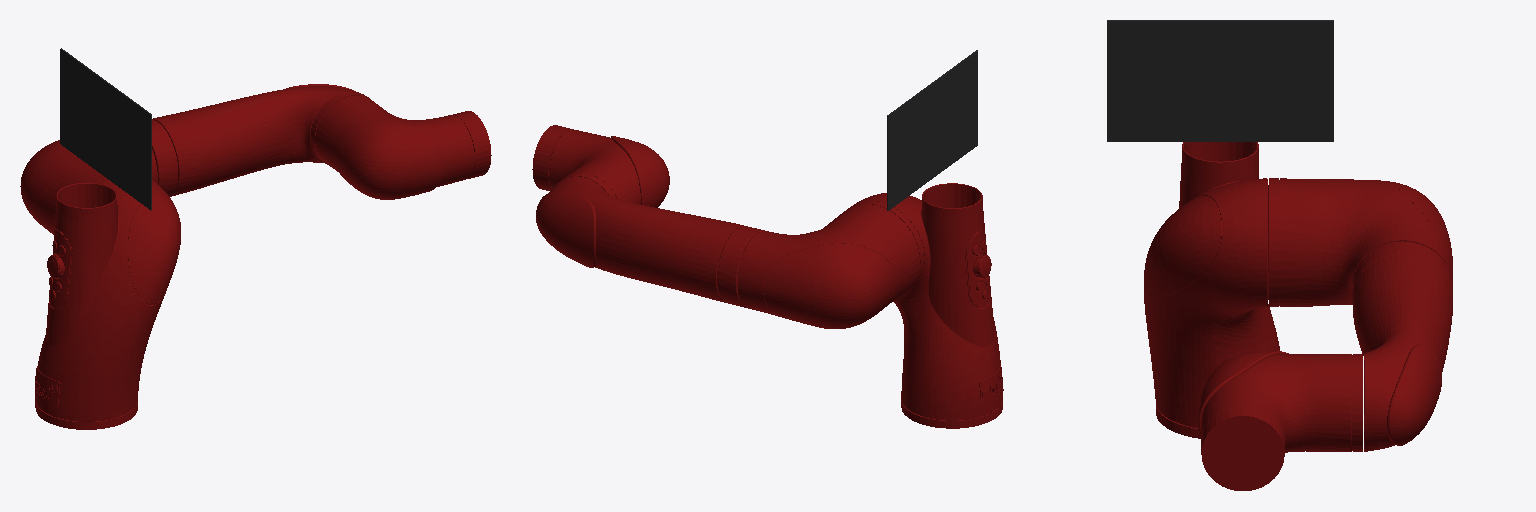
The robot description file, URDF, robot "sawyer":
<?xml version="1.0" ?>
<!-- =================================================================================== -->
<!-- |    This document was autogenerated by xacro from ./urdf.xacro                   | -->
<!-- |    EDITING THIS FILE BY HAND IS NOT RECOMMENDED                                 | -->
<!-- =================================================================================== -->
<robot name="sawyer" xmlns:xacro="http://www.ros.org/wiki/xacro">
  <material name="black">
    <color rgba="0 0 0 1"/>
  </material>
  <material name="darkgray">
    <color rgba=".2 .2 .2 1"/>
  </material>
  <material name="darkred">
    <color rgba=".5 .1 .1 1"/>
  </material>
  <material name="sawyer_red">
    <color rgba=".5 .1 .1 1"/>
  </material>
  <material name="sawyer_gray">
    <color rgba="0.75294 0.75294 0.75294 1"/>
  </material>
  <link name="base"/>
  <link name="torso">
    <visual>
      <origin rpy="0 0 0" xyz="0 0 0"/>
      <geometry>
        <box size="0 0 0"/>
      </geometry>
      <material name="darkgray">
        <color rgba=".2 .2 .2 1"/>
      </material>
    </visual>
    <inertial>
      <origin rpy="0 0 0" xyz="0.000000 0.000000 0.000000"/>
      <mass value="0.0001"/>
      <inertia ixx="1e-08" ixy="0" ixz="0" iyy="1e-08" iyz="0" izz="1e-08"/>
    </inertial>
  </link>
  <link name="pedestal">
    <visual>
      <origin rpy="1.57079632679 0 -1.57079632679" xyz="0.26 0.345 -0.91488"/>
      <geometry>
        <mesh filename="package://sawyer_description/meshes/sawyer_pv/pedestal.STL"/>
      </geometry>
      <material name="darkgray"/>
    </visual>
    <collision>
      <origin rpy="0 0 0" xyz="0 0 -0.30"/>
      <geometry>
        <cylinder length="0.62" radius="0.18"/>
      </geometry>
    </collision>
    <inertial>
      <origin rpy="0 0 0" xyz="0 0 0"/>
      <mass value="60.86397744"/>
      <inertia ixx="5.0635929" ixy="0.00103417" ixz="0.80199628" iyy="6.08689388" iyz="0.00105311" izz="4.96191932"/>
    </inertial>
  </link>
  <link name="controller_box">
    <collision>
      <origin rpy="0 0 0" xyz="-0.325 0 -0.38"/>
      <geometry>
        <box size="0.22 0.4 0.53"/>
      </geometry>
    </collision>
  </link>
  <joint name="controller_box_fixed" type="fixed">
    <origin rpy="0 0 0" xyz="0.0 0.0 0.0"/>
    <parent link="base"/>
    <child link="controller_box"/>
  </joint>
  <link name="pedestal_feet">
    <collision>
      <origin rpy="0 0 0" xyz="-0.1225 0 -0.758"/>
      <geometry>
        <box size="0.77 0.7 0.31"/>
      </geometry>
    </collision>
  </link>
  <joint name="pedestal_feet_fixed" type="fixed">
    <origin rpy="0 0 0" xyz="0.0 0.0 0.0"/>
    <parent link="base"/>
    <child link="pedestal_feet"/>
  </joint>
  <joint name="torso_t0" type="fixed">
    <origin rpy="0 0 0" xyz="0 0 0"/>
    <parent link="base"/>
    <child link="torso"/>
  </joint>
  <joint name="pedestal_fixed" type="fixed">
    <origin rpy="0 0 0" xyz="0.0 0.0 0.0"/>
    <parent link="base"/>
    <child link="pedestal"/>
  </joint>
  <joint name="right_arm_mount" type="fixed">
    <origin rpy="0 0 0" xyz="0.0 0.0 0.0"/>
    <parent link="base"/>
    <child link="right_arm_base_link"/>
  </joint>
  <link name="right_arm_base_link">
    <inertial>
      <origin rpy="0 0 0" xyz="-0.0006241 -2.8025E-05 0.065404"/>
      <mass value="2.0687"/>
      <inertia ixx="0.0067599" ixy="-4.2024E-05" ixz="-6.1904E-07" iyy="0.0067877" iyz="1.5888E-05" izz="0.0074031"/>
    </inertial>
    <visual>
      <origin rpy="0 0 0" xyz="0 0 0"/>
      <geometry>
        <mesh filename="package://sawyer_description/meshes/sawyer_pv/base.DAE"/>
      </geometry>
      <material name="sawyer_red"/>
    </visual>
    <collision>
      <origin rpy="0 0 0" xyz="0 0 0.12"/>
      <geometry>
        <cylinder length="0.24" radius="0.08"/>
      </geometry>
    </collision>
  </link>
  <link name="right_l0">
    <inertial>
      <origin rpy="0 0 0" xyz="0.024366 0.010969 0.14363"/>
      <mass value="5.3213"/>
      <inertia ixx="0.053314" ixy="0.0047093" ixz="0.011734" iyy="0.057902" iyz="0.0080179" izz="0.023659"/>
    </inertial>
    <visual>
      <origin rpy="0 0 0" xyz="0 0 0"/>
      <geometry>
        <mesh filename="package://sawyer_description/meshes/sawyer_mp3/l0.DAE"/>
      </geometry>
      <material name="sawyer_red"/>
    </visual>
    <collision>
      <origin rpy="0 0 0" xyz="0.081 0 0.237"/>
      <geometry>
        <sphere radius="0.07"/>
      </geometry>
    </collision>
  </link>
  <joint name="right_j0" type="revolute">
    <origin rpy="0 0 0" xyz="0 0 0.08"/>
    <parent link="right_arm_base_link"/>
    <child link="right_l0"/>
    <axis xyz="0 0 1"/>
    <limit effort="80.0" lower="-3.0503" upper="3.0503" velocity="1.74"/>
  </joint>
  <link name="head">
    <inertial>
      <origin rpy="0 0 0" xyz="0.0053207 -2.6549E-05 0.1021"/>
      <mass value="1.5795"/>
      <inertia ixx="0.011833" ixy="-4.4669E-06" ixz="4.9425E-05" iyy="0.0082709" iyz="4.2124E-07" izz="0.0049661"/>
    </inertial>
    <visual>
      <origin rpy="0 0 0" xyz="0 0 0"/>
      <geometry>
        <mesh filename="package://sawyer_description/meshes/sawyer_pv/head.STL"/>
      </geometry>
      <material name="sawyer_red"/>
    </visual>
    <collision>
      <origin rpy="0 0 0" xyz="0 0 0.08"/>
      <geometry>
        <sphere radius="0.18"/>
      </geometry>
    </collision>
  </link>
  <joint name="head_pan" type="revolute">
    <origin rpy="0 0 0" xyz="0 0 0.2965"/>
    <parent link="right_l0"/>
    <child link="head"/>
    <axis xyz="0 0 1"/>
    <limit effort="8" lower="-5.1477" upper="0.9559" velocity="1.8"/>
  </joint>
  <link name="right_torso_itb">
    <inertial>
      <origin rpy="0 0 0" xyz="0.000000 0.000000 0.000000"/>
      <mass value="0.0001"/>
      <inertia ixx="1e-08" ixy="0" ixz="0" iyy="1e-08" iyz="0" izz="1e-08"/>
    </inertial>
  </link>
  <joint name="right_torso_itb" type="fixed">
    <origin rpy="0 -1.57079632679 0" xyz="-.055 0 .22"/>
    <parent link="right_l0"/>
    <child link="right_torso_itb"/>
    <axis xyz="0 0 1"/>
  </joint>
  <link name="right_l1">
    <inertial>
      <origin rpy="0 0 0" xyz="-0.0030849 -0.026811 0.092521"/>
      <mass value="4.505"/>
      <inertia ixx="0.022398" ixy="-0.00023986" ixz="-0.00029362" iyy="0.014613" iyz="-0.0060875" izz="0.017295"/>
    </inertial>
    <visual>
      <origin rpy="0 0 0" xyz="0 0 0"/>
      <geometry>
        <mesh filename="package://sawyer_description/meshes/sawyer_mp3/l1.DAE"/>
      </geometry>
      <material name="sawyer_red"/>
    </visual>
    <collision>
      <origin rpy="0 0 0" xyz="0 0 0.1225"/>
      <geometry>
        <sphere radius="0.07"/>
      </geometry>
    </collision>
  </link>
  <joint name="right_j1" type="revolute">
    <origin rpy="-1.57079632679 1.57079632679 0" xyz="0.081 0.05 0.237"/>
    <parent link="right_l0"/>
    <child link="right_l1"/>
    <axis xyz="0 0 1"/>
    <limit effort="80.0" lower="-3.8183" upper="2.2824" velocity="1.328"/>
  </joint>
  <link name="right_l2">
    <inertial>
      <origin rpy="0 0 0" xyz="-0.00016232 -0.015346 0.13445"/>
      <mass value="1.7251"/>
      <inertia ixx="0.025176" ixy="4.3031E-06" ixz="1.4564E-05" iyy="0.024982" iyz="-0.0033928" izz="0.0033798"/>
    </inertial>
    <visual>
      <origin rpy="0 0 0" xyz="0 0 0"/>
      <geometry>
        <mesh filename="package://sawyer_description/meshes/sawyer_pv/l2.DAE"/>
      </geometry>
      <material name="sawyer_red"/>
    </visual>
    <collision>
      <origin rpy="0 0 0" xyz="0 0 0.14"/>
      <geometry>
        <cylinder length="0.35" radius="0.06"/>
      </geometry>
    </collision>
  </link>
  <joint name="right_j2" type="revolute">
    <origin rpy="1.57079632679 0 0" xyz="0 -0.14 0.1425"/>
    <parent link="right_l1"/>
    <child link="right_l2"/>
    <axis xyz="0 0 1"/>
    <limit effort="40.0" lower="-3.0514" upper="3.0514" velocity="1.957"/>
  </joint>
  <link name="right_l3">
    <inertial>
      <origin rpy="0 0 0" xyz="-0.0046678 -0.028394 -0.083127"/>
      <mass value="2.4743"/>
      <inertia ixx="0.0099549" ixy="-1.7675E-05" ixz="0.00027521" iyy="0.0064248" iyz="0.0030853" izz="0.0067746"/>
    </inertial>
    <visual>
      <origin rpy="0 0 0" xyz="0 0 0"/>
      <geometry>
        <mesh filename="package://sawyer_description/meshes/sawyer_pv/l3.DAE"/>
      </geometry>
      <material name="sawyer_red"/>
    </visual>
    <collision>
      <origin rpy="0 0 0" xyz="0 -0.01 -0.12"/>
      <geometry>
        <sphere radius="0.06"/>
      </geometry>
    </collision>
  </link>
  <joint name="right_j3" type="revolute">
    <origin rpy="-1.57079632679 0 0" xyz="0 -0.042 0.26"/>
    <parent link="right_l2"/>
    <child link="right_l3"/>
    <axis xyz="0 0 1"/>
    <limit effort="40.0" lower="-3.0514" upper="3.0514" velocity="1.957"/>
  </joint>
  <link name="right_l4">
    <inertial>
      <origin rpy="0 0 0" xyz="-0.0027794 0.0076558 0.13273"/>
      <mass value="1.0433"/>
      <inertia ixx="0.012913" ixy="2.573E-05" ixz="0.00017705" iyy="0.012939" iyz="0.0011152" izz="0.0012405"/>
    </inertial>
    <visual>
      <origin rpy="0 0 0" xyz="0 0 0"/>
      <geometry>
        <mesh filename="package://sawyer_description/meshes/sawyer_pv/l4.DAE"/>
      </geometry>
      <material name="sawyer_red"/>
    </visual>
    <collision>
      <origin rpy="0 0 0" xyz="0 0 0.14"/>
      <geometry>
        <cylinder length="0.36" radius="0.045"/>
      </geometry>
    </collision>
  </link>
  <joint name="right_j4" type="revolute">
    <origin rpy="1.57079632679 0 0" xyz="0 -0.125 -0.1265"/>
    <parent link="right_l3"/>
    <child link="right_l4"/>
    <axis xyz="0 0 1"/>
    <limit effort="9.0" lower="-2.9842" upper="2.9842" velocity="3.485"/>
  </joint>
  <link name="right_arm_itb">
    <inertial>
      <origin rpy="0 0 0" xyz="0.000000 0.000000 0.000000"/>
      <mass value="0.0001"/>
      <inertia ixx="1e-08" ixy="0" ixz="0" iyy="1e-08" iyz="0" izz="1e-08"/>
    </inertial>
  </link>
  <joint name="right_arm_itb" type="fixed">
    <origin rpy="0 -1.57079632679 0" xyz="-.055 0 .075"/>
    <parent link="right_l4"/>
    <child link="right_arm_itb"/>
    <axis xyz="0 0 1"/>
  </joint>
  <link name="right_l5">
    <inertial>
      <origin rpy="0 0 0" xyz="0.0062067 -0.024291 0.075564"/>
      <mass value="1.5343"/>
      <inertia ixx="0.0046072" ixy="0.00012002" ixz="5.3065E-05" iyy="0.0028725" iyz="-0.0011886" izz="0.003101"/>
    </inertial>
    <visual>
      <origin rpy="0 0 0" xyz="0 0 0"/>
      <geometry>
        <mesh filename="package://sawyer_description/meshes/sawyer_pv/l5.STL"/>
      </geometry>
      <material name="sawyer_red"/>
    </visual>
    <collision>
      <origin rpy="0 0 0" xyz="0.01 0 0.09"/>
      <geometry>
        <sphere radius="0.06"/>
      </geometry>
    </collision>
  </link>
  <joint name="right_j5" type="revolute">
    <origin rpy="-1.57079632679 0 0" xyz="0 0.031 0.275"/>
    <parent link="right_l4"/>
    <child link="right_l5"/>
    <axis xyz="0 0 1"/>
    <limit effort="9.0" lower="-2.9842" upper="2.9842" velocity="3.485"/>
  </joint>
  <link name="right_hand_camera"/>
  <joint name="right_hand_camera" type="fixed">
    <origin rpy="0 1.57079632679 0" xyz="0.039552 -0.033 0.0695"/>
    <parent link="right_l5"/>
    <child link="right_hand_camera"/>
    <axis xyz="0 0 0"/>
  </joint>
  <link name="right_wrist"/>
  <joint name="right_wrist" type="fixed">
    <origin rpy="1.57079632679 0 0" xyz="0 0 0.10541"/>
    <parent link="right_l5"/>
    <child link="right_wrist"/>
    <axis xyz="0 0 0"/>
  </joint>
  <link name="right_l6">
    <inertial>
      <origin rpy="0 0 0" xyz="-8.0726E-06 0.0085838 -0.0049566"/>
      <mass value="0.3292"/>
      <inertia ixx="0.00031105" ixy="1.4771E-06" ixz="-3.7074E-07" iyy="0.00021549" iyz="-8.4533E-06" izz="0.00035976"/>
    </inertial>
    <visual>
      <origin rpy="0 0 0" xyz="0 0 0"/>
      <geometry>
        <mesh filename="package://sawyer_description/meshes/sawyer_mp1/l6.STL"/>
      </geometry>
      <material name="sawyer_red"/>
    </visual>
    <collision>
      <origin rpy="0 0 0" xyz="0 0 -0.005"/>
      <geometry>
        <cylinder length="0.05" radius="0.065"/>
      </geometry>
    </collision>
  </link>
  <joint name="right_j6" type="revolute">
    <origin rpy="-1.57079632679 -0.17453 3.1416" xyz="0 -0.11 0.1053"/>
    <parent link="right_l5"/>
    <child link="right_l6"/>
    <axis xyz="0 0 1"/>
    <limit effort="9.0" lower="-4.7104" upper="4.7104" velocity="4.545"/>
  </joint>
  <link name="right_hand">
    <collision>
      <origin rpy="0 0 0" xyz="0 0 0.02"/>
      <geometry>
        <cylinder length="0.04" radius="0.06"/>
      </geometry>
    </collision>
    <inertial>
      <origin rpy="0 0 0" xyz="1.0E-08 1.0E-08 1.0E-08"/>
      <mass value="1.0E-08"/>
      <inertia ixx="1.0E-08" ixy="1.0E-08" ixz="1.0E-08" iyy="1.0E-08" iyz="1.0E-08" izz="1.0E-08"/>
    </inertial>
  </link>
  <joint name="right_hand" type="fixed">
    <origin rpy="0 0 1.570796" xyz="0 0 0.0245"/>
    <axis xyz="0 0 1"/>
    <parent link="right_l6"/>
    <child link="right_hand"/>
  </joint>
  <link name="screen">
    <visual>
      <origin rpy="0 0 0" xyz="0 0 0"/>
      <geometry>
        <box size="0.24 0.14 0.002"/>
      </geometry>
      <material name="darkgray"/>
    </visual>
    <collision>
      <origin rpy="0 0 0" xyz="0 0 0"/>
      <geometry>
        <sphere radius="0.001"/>
      </geometry>
    </collision>
    <inertial>
      <origin rpy="0 0 0" xyz="0 0 0"/>
      <mass value="0.0001"/>
      <inertia ixx="1e-08" ixy="0" ixz="0" iyy="1e-08" iyz="0" izz="1e-08"/>
    </inertial>
  </link>
  <joint name="display_joint" type="fixed">
    <origin rpy="1.57079632679 0 1.57079632679" xyz="0.03 0.0 0.105"/>
    <parent link="head"/>
    <child link="screen"/>
  </joint>
  <link name="head_camera"/>
    <joint name="head_camera" type="fixed">
      <origin rpy="-2.1293 0 -1.57079632679" xyz="0.0228027 0 0.216572"/>
      <parent link="head"/>
      <child link="head_camera"/>
      <axis xyz="0 0 0"/>
    </joint>
</robot>

--- Render facts (derived) ---
3 views of the same robot in one strip: view 1: azimuth 30°, elevation 25°; view 2: azimuth 150°, elevation 25°; view 3: azimuth 270°, elevation 25° (orthographic).
Model sawyer with 21 links and 20 joints (8 revolute, 12 fixed), rooted at base, posed every joint at zero.
Links seen in each view (by area): view 1: right_l0, right_l3, right_l2, screen, right_l1; view 2: right_l0, right_l1, right_l2, screen, right_l3; view 3: screen, right_l0, right_l3, right_l1, right_l2.
Link boxes in pixels (x1=…): right_l0: x1=35, y1=179, x2=180, y2=429; right_l3: x1=310, y1=92, x2=491, y2=199; right_l2: x1=153, y1=84, x2=358, y2=196; screen: x1=60, y1=48, x2=151, y2=210; right_l1: x1=20, y1=119, x2=177, y2=234; right_l0: x1=856, y1=183, x2=1003, y2=428; right_l1: x1=717, y1=201, x2=924, y2=328; right_l2: x1=536, y1=176, x2=743, y2=302; screen: x1=887, y1=50, x2=977, y2=210; right_l3: x1=532, y1=125, x2=669, y2=207; screen: x1=1107, y1=20, x2=1333, y2=141; right_l0: x1=1144, y1=142, x2=1279, y2=438; right_l3: x1=1198, y1=351, x2=1362, y2=490; right_l1: x1=1268, y1=178, x2=1452, y2=306; right_l2: x1=1352, y1=254, x2=1452, y2=451.
Bounding box of the posed robot: 0.6766 × 0.3658 × 0.5515 m (x, y, z).
4 mesh visuals loaded from 10 distinct referenced files (4 Collada DAE); not drawn: 6 (reference not matched to a file when rendering).
